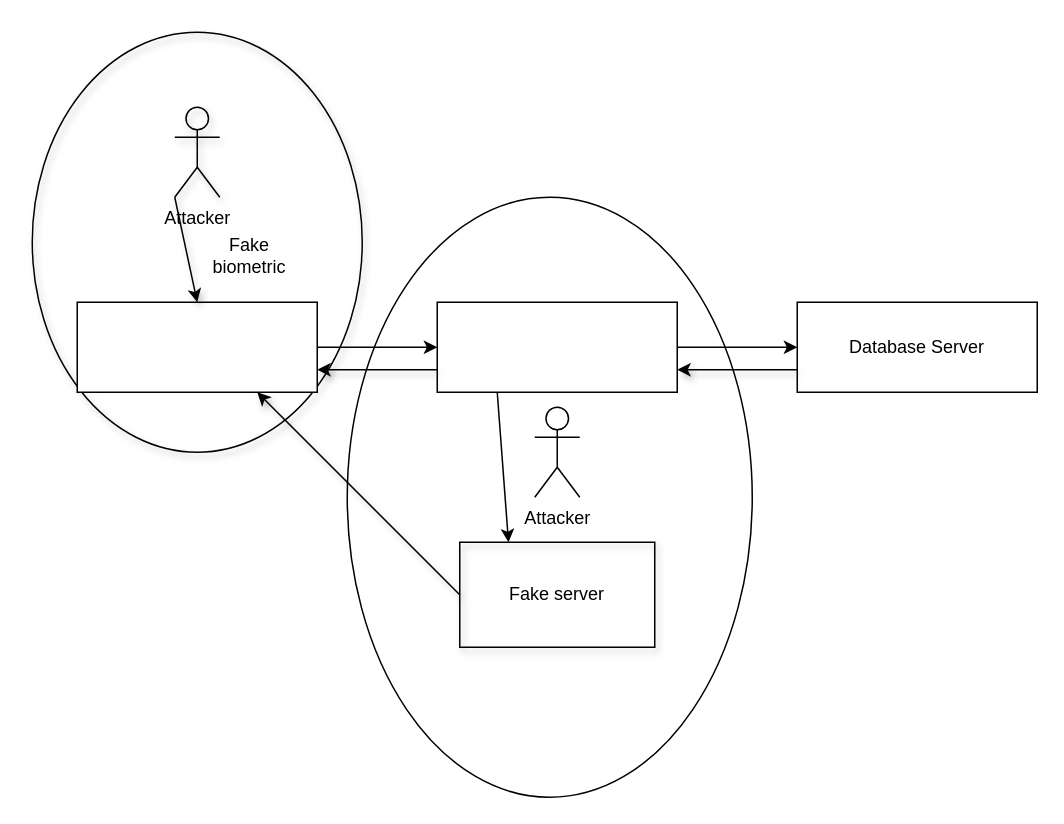
This 1064x824 diagram has some shape labels left out. The centre of each missing label's shape, as x and y in pixels:
"Biometric Scanner" belongs at (x=196, y=346).
"Communication Link" belongs at (x=556, y=346).
